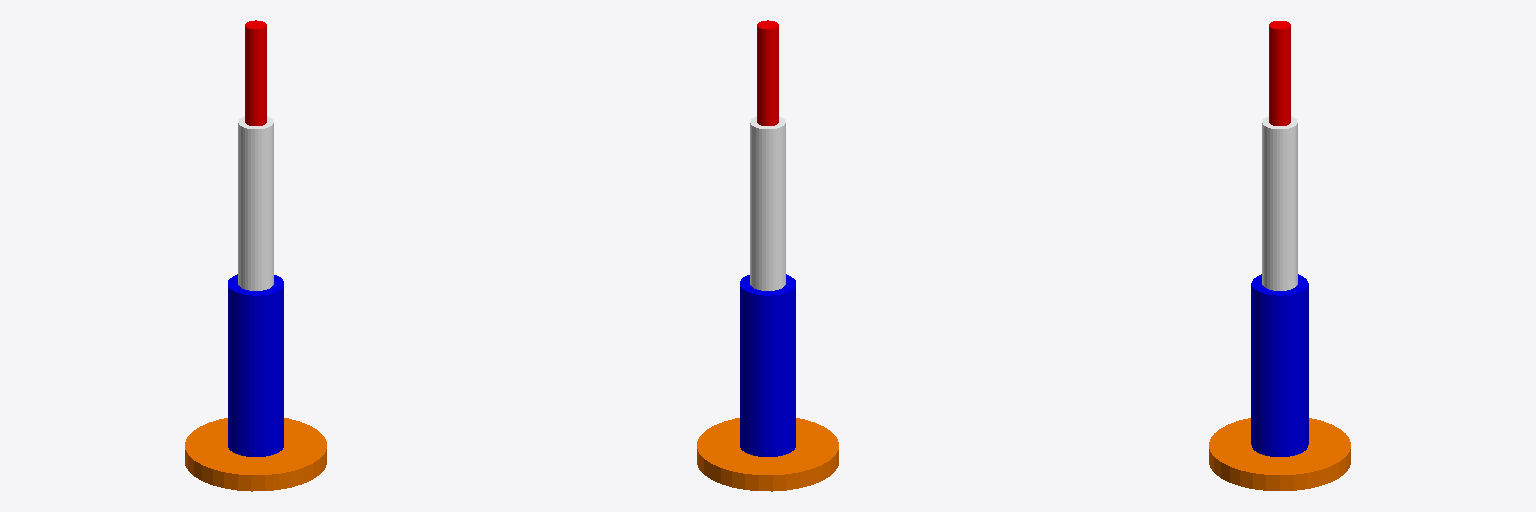
The robot description file, URDF, robot "arm":
<?xml version="1.0"?>
<robot name="arm">
    <!-- https://www.rapidtables.com/web/color/RGB_Color.html -->

    <link name="world"/>

    <link name="base_link">
        <visual>
            <geometry>
                <cylinder length="0.05" radius="0.2"/>
            </geometry>
            <material name="Orange">
                <color rgba="1 0.5 0 1"/>
            </material>
            <origin xyz="0 0 0.025" rpy="0 0 0"/>
        </visual>

        <collision>
            <geometry>
                <cylinder length="0.05" radius="0.2"/>
            </geometry>
            <origin xyz="0 0 0.025" rpy="0 0 0"/>
        </collision>

        <inertial>
            <origin rpy="0 0 0" xyz="0 0 0.025"/>
            <mass value="5.0"/>
            <inertia ixx="0.0135" ixy="0.0" ixz="0.0" iyy="0.0135" iyz="0.0" izz="0.05"/>
        </inertial>
    </link>

    <joint name="world_base_joint" type="fixed">
        <parent link="world"/>
        <child link="base_link"/>
        <dynamics damping="10" friction="1.0"/>
    </joint>

    <link name="arm1_link">
        <visual>
            <geometry>
                <cylinder length="0.5" radius="0.08"/>
            </geometry>
            <material name="Blue">
                <color rgba="0 0 1 1"/>
            </material>
            <origin xyz="0 0 0.25" rpy="0 0 0"/>
        </visual>

        <collision>
            <geometry>
                <cylinder length="0.5" radius="0.08"/>
            </geometry>
            <origin xyz="0 0 0.25" rpy="0 0 0"/>
        </collision>

        <inertial>
            <origin rpy="0 0 0" xyz="0 0 0.25"/>
            <mass value="5.0"/>
            <inertia ixx="0.107" ixy="0.0" ixz="0.0" iyy="0.107" iyz="0.0" izz="0.0125"/>
        </inertial>
    </link>

    <joint name="base_arm1_joint" type="revolute">
        <axis xyz="0 1 0"/>
        <parent link="base_link"/>
        <child link="arm1_link"/>
        <origin xyz="0.0 0.0 0.05" rpy="0 0 0"/>
        <limit lower="-2.14" upper="2.14" effort="100" velocity="100"/>
        <dynamics damping="10" friction="1.0"/>
    </joint>

    <link name="arm2_link">
        <inertial>
            <origin xyz="0 0 0.25" rpy="0 0 0"/>
            <mass value="0.01"/>
            <inertia ixx="0.027" ixy="0.0" ixz="0.0" iyy="0.027" iyz="0.0" izz="0.0025"/>
        </inertial>

        <visual>
            <geometry>
                <cylinder length="0.5" radius="0.05"/>
            </geometry>
            <material name="White">
                <color rgba="1 1 1 1"/>
            </material>
            <origin rpy="0 0 0" xyz="0 0 0.25"/>
        </visual>

        <collision>
            <geometry>
                <cylinder length="0.4" radius="0.05"/>
            </geometry>
            <origin xyz="0 0 0.25" rpy="0 0 0"/>
        </collision>
    </link>

    <joint name="arm1_arm2_joint" type="revolute">
        <parent link="arm1_link"/>
        <child link="arm2_link"/>
        <origin xyz="0.0 0.0 0.5" rpy="0 0 0"/>
        <axis xyz="0 1 0"/>
        <limit lower="-2.14" upper="2.14" effort="100" velocity="100"/>
        <dynamics damping="10" friction="1.0"/>
    </joint>

    <link name="arm3_link">
        <inertial>
            <origin xyz="0 0 0.15" rpy="0 0 0"/>
            <mass value="0.01"/>
            <inertia ixx="0.027" ixy="0.0" ixz="0.0" iyy="0.027" iyz="0.0" izz="0.0025"/>
        </inertial>
        <visual>
            <geometry>
                <cylinder length="0.3" radius="0.03"/>
            </geometry>
            <material name="Red">
                <color rgba="1 0 0 1"/>
            </material>
            <origin rpy="0 0 0" xyz="0 0 0.15"/>
        </visual>

        <collision>
            <geometry>
                <cylinder length="0.3" radius="0.03"/>
            </geometry>
            <origin xyz="0 0 0.15" rpy="0 0 0"/>
        </collision>
    </link>

    <joint name="arm2_arm3_joint" type="revolute">
        <parent link="arm2_link"/>
        <child link="arm3_link"/>
        <origin xyz="0.0 0.0 0.5" rpy="0 0 0"/>
        <axis xyz="0 1 0"/>
        <limit lower="-2.14" upper="2.14" effort="100" velocity="100"/>
        <dynamics damping="10" friction="1.0"/>
    </joint>

    <gazebo reference="base_link">
        <material>Gazebo/Orange</material>
    </gazebo>

    <gazebo reference="arm1_link">
        <material>Gazebo/Blue</material>
    </gazebo>

    <gazebo reference="arm2_link">
        <material>Gazebo/White</material>
    </gazebo>

    <gazebo reference="arm3_link">
        <material>Gazebo/Red</material>
    </gazebo>

    <gazebo>
        <plugin filename="libgazebo_ros2_control.so" name="gazebo_ros2_control">
            <robot_sim_type>gazebo_ros2_control/GazeboSystem</robot_sim_type>
            <parameters>[local-path]/workspaces/ros2_ws/src/urdf_tutorial/config/control.yaml</parameters>
        </plugin>
    </gazebo>

    <ros2_control name="GazeboSystem" type="system">
        <hardware>
            <plugin>gazebo_ros2_control/GazeboSystem</plugin>
        </hardware>

        <joint name="base_arm1_joint">
            <command_interface name="position">
                <param name="min">-2.14</param>
                <param name="max">2.14</param>
            </command_interface>
            <state_interface name="position"/>
            <param name="initial_position">0.0</param>
        </joint>

        <joint name="arm1_arm2_joint">
            <command_interface name="position">
                <param name="min">-2.14</param>
                <param name="max">2.14</param>
            </command_interface>
            <state_interface name="position"/>
            <param name="initial_position">0.1</param>
        </joint>

        <joint name="arm2_arm3_joint">
            <command_interface name="position">
                <param name="min">-2.14</param>
                <param name="max">2.14</param>
            </command_interface>
            <state_interface name="position"/>
            <param name="initial_position">0.5</param>
        </joint>
    </ros2_control>
</robot>

--- Facts derived from the render (not from the file) ---
3 views of the same robot in one strip: view 1: azimuth 30°, elevation 25°; view 2: azimuth 150°, elevation 25°; view 3: azimuth 270°, elevation 25° (orthographic).
Model arm with 5 links and 4 joints (3 revolute, 1 fixed), rooted at world, posed every joint at zero.
Visible links, largest first — view 1: arm1_link, base_link, arm2_link, arm3_link; view 2: arm1_link, base_link, arm2_link, arm3_link; view 3: arm1_link, base_link, arm2_link, arm3_link.
Boxes of the visible links, x1,y1,x2,y2 form: arm1_link: (228,274,283,456); base_link: (185,418,326,491); arm2_link: (238,116,273,290); arm3_link: (245,20,266,125); arm1_link: (740,274,795,456); base_link: (697,418,838,491); arm2_link: (750,116,785,290); arm3_link: (757,20,778,125); arm1_link: (1251,274,1308,456); base_link: (1209,418,1350,490); arm2_link: (1262,116,1297,290); arm3_link: (1269,21,1290,125).
Bounding box of the posed robot: 0.4 × 0.4 × 1.35 m (x, y, z).
Geometry: primitives only (box / cylinder / sphere), no mesh files.